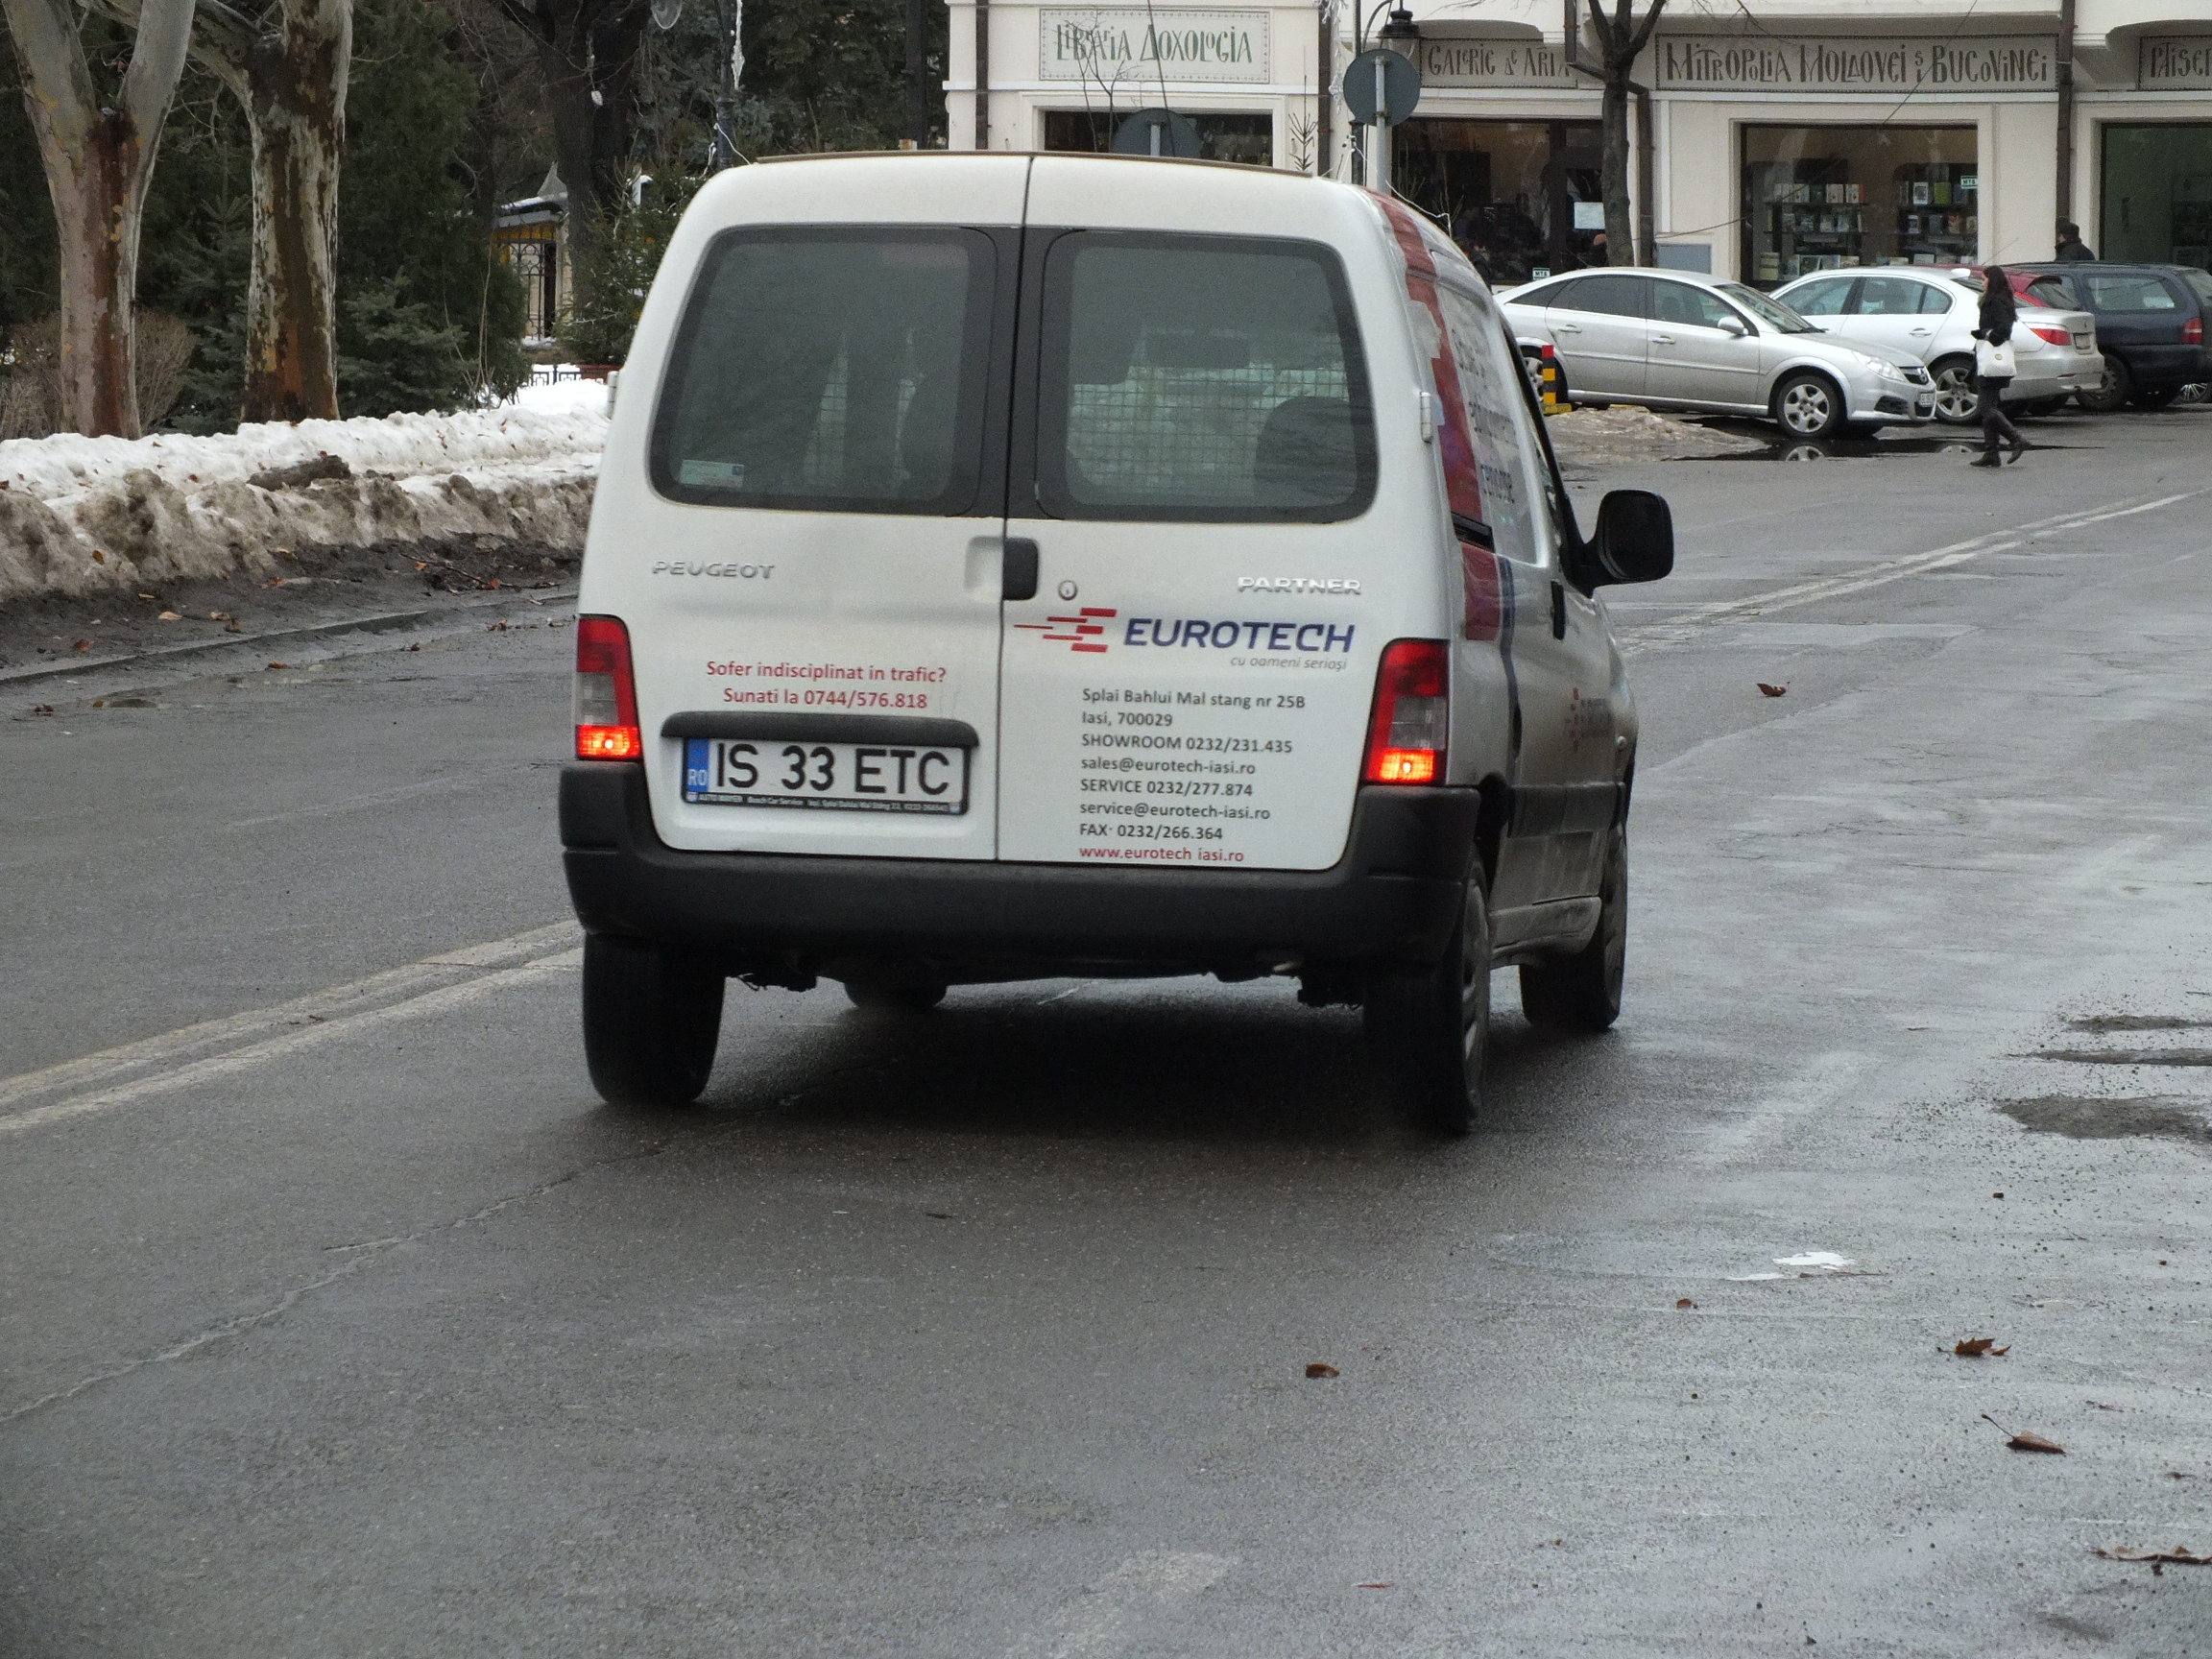IS33ETC: (683, 737, 954, 800)
